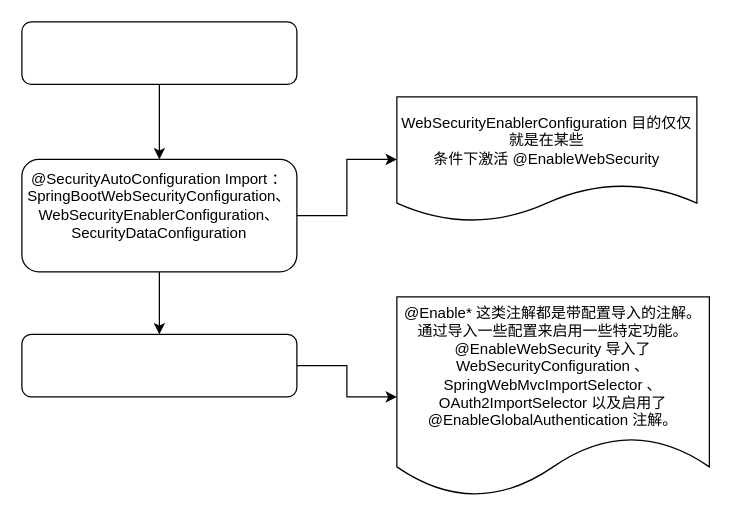
Some shapes in this 731 by 519 pixel diagram are drawn without their labels. Here are the shapes that lost their labels. From the top down, the centre of each, then its label:
point (159, 52): spring-boot-autoconfiguration中的spring.factories
point (159, 365): @EnableWebSecurity
